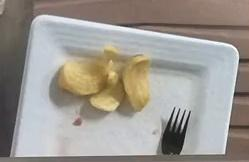fries: (58, 46, 150, 111)
